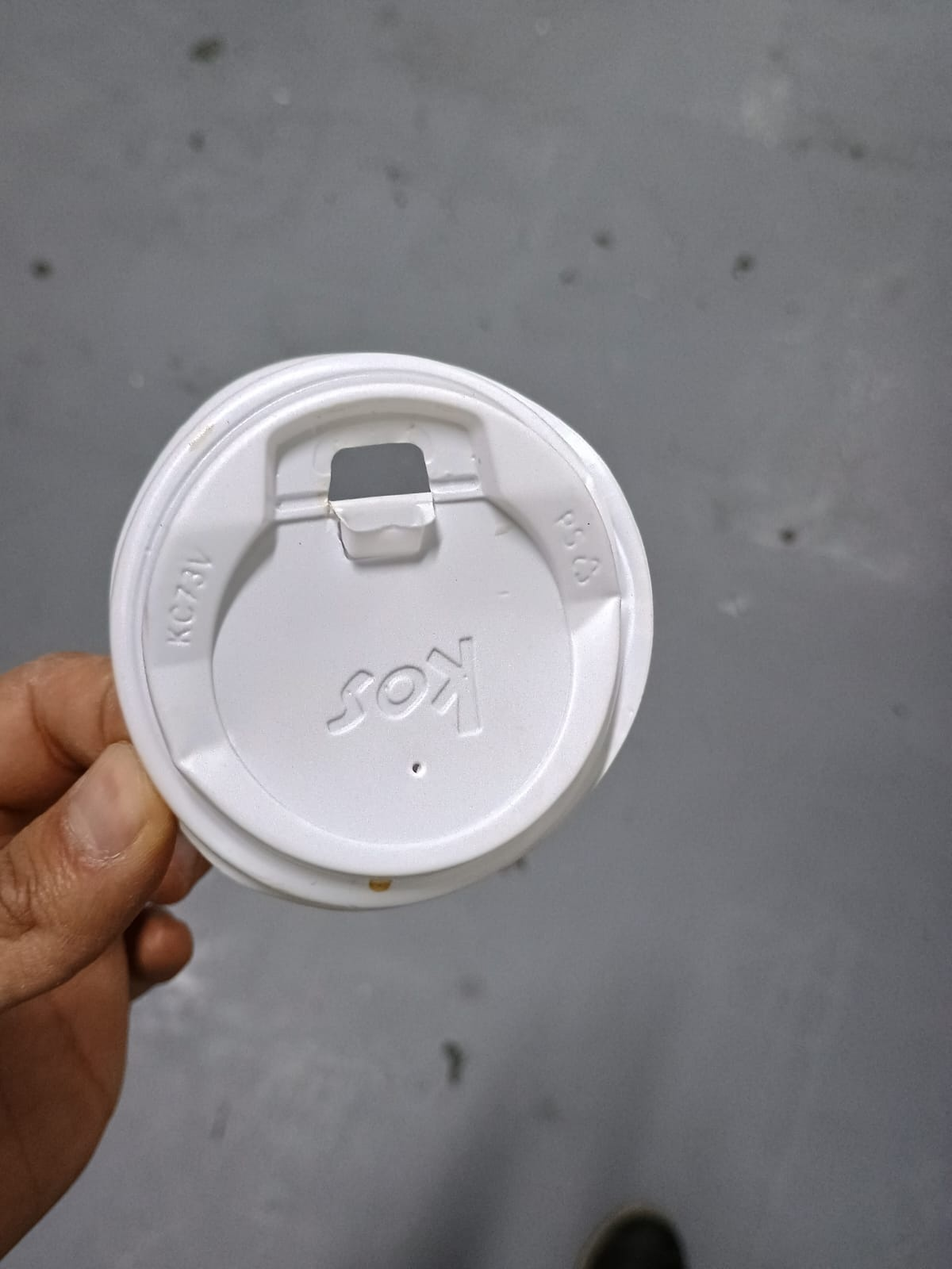Ordinario: (106, 347, 655, 910)
